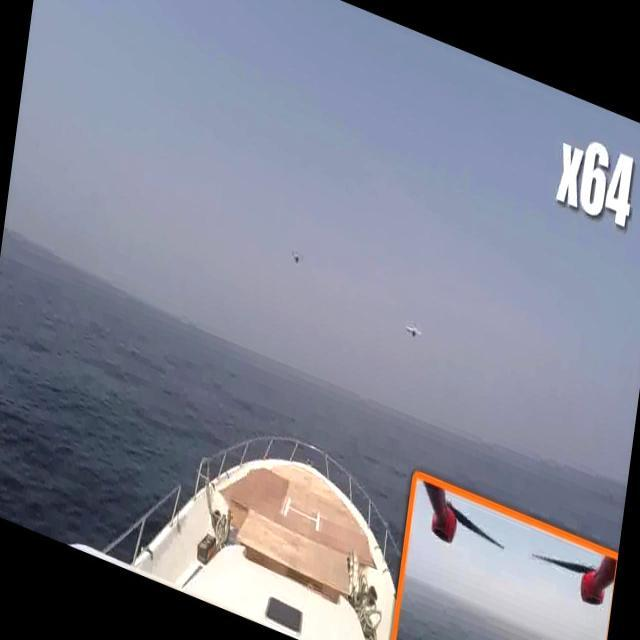drone: (282, 246, 314, 274), (404, 310, 424, 342)
